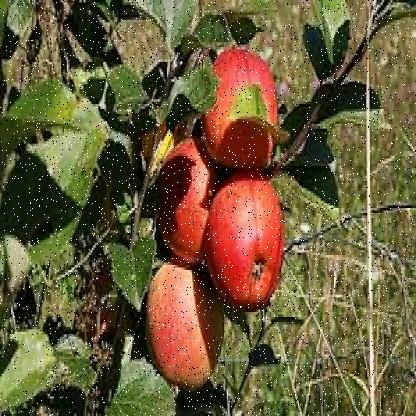apple: (145, 258, 225, 388), (207, 171, 280, 307), (204, 49, 278, 164), (158, 136, 218, 258)
